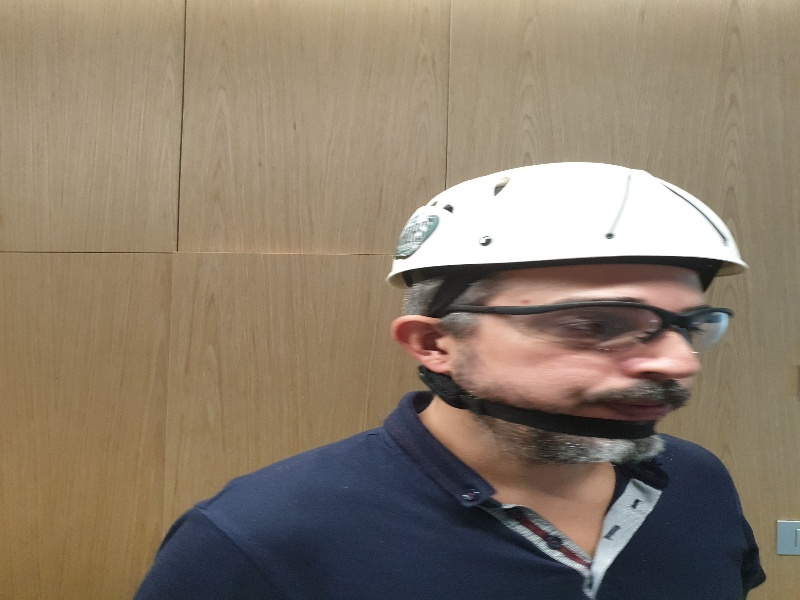Baret: (386, 161, 748, 279)
Gozluk: (433, 300, 735, 351)
